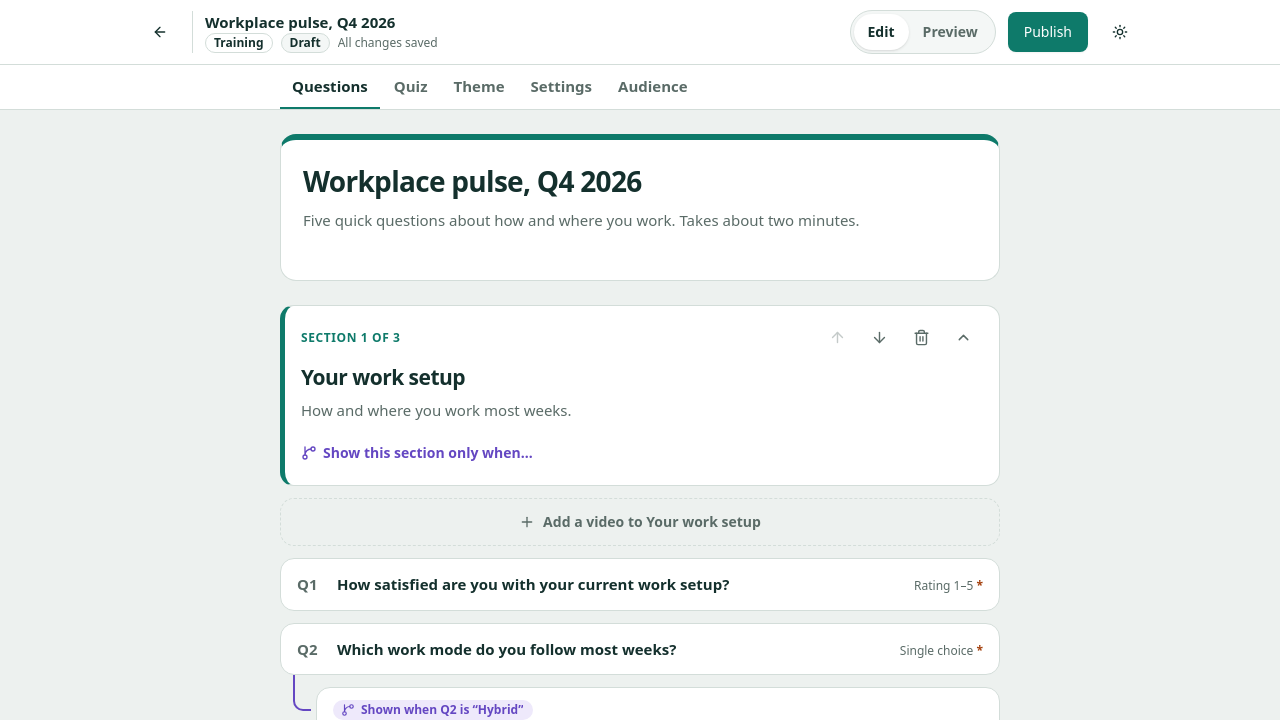
it: video sections in the builder › checks an internal link and says how long the video is
The width and height of the screenshot is (1280, 720).
Expected: the field named "Survey title" is shown, [303,160,977,203]
Click the button "Add a video to Your work setup". click: (640, 522)
box: [280,498,1000,546]
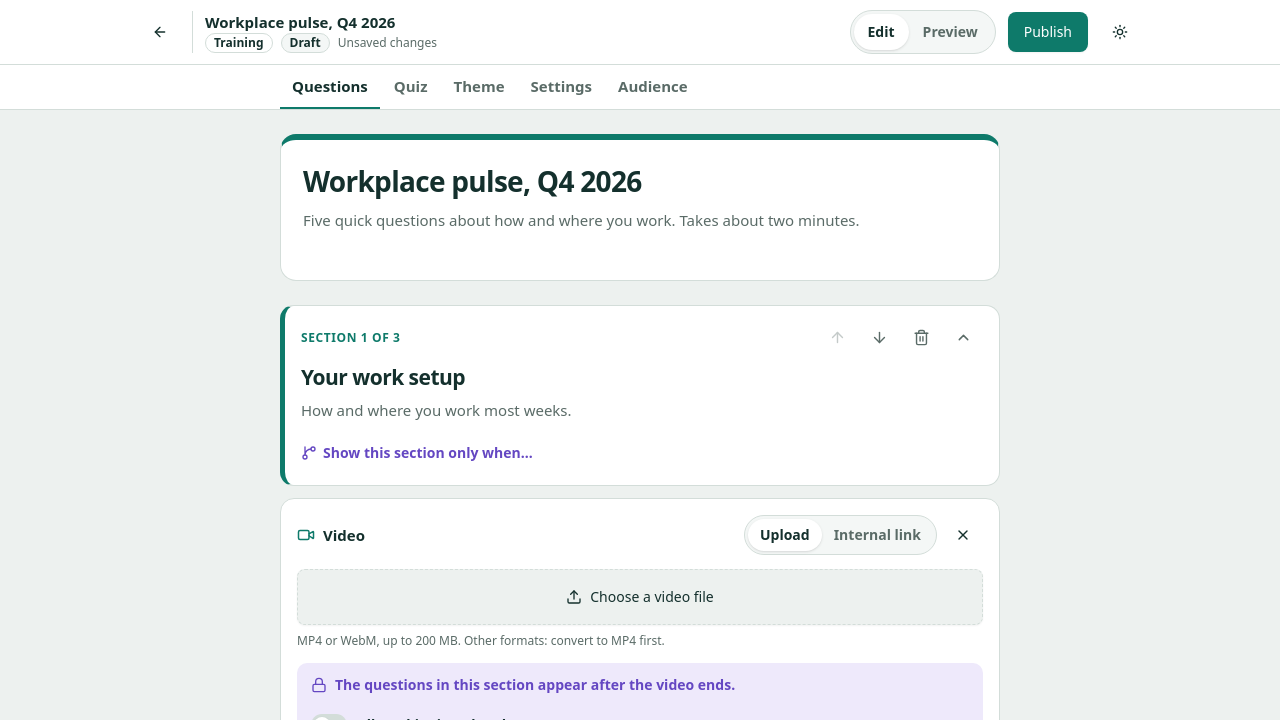
Click the button "Internal link". click: (877, 535)
box: [822,519,933,551]
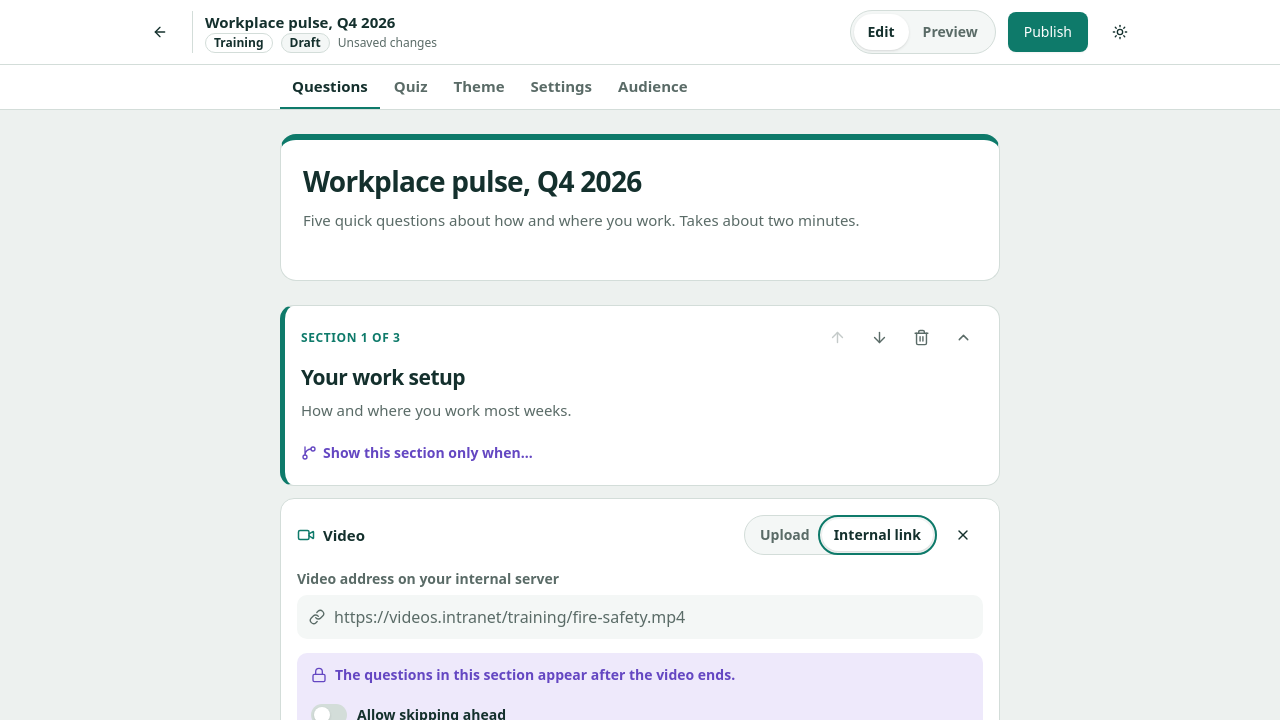
Type "videos/fire.mp4" into the field labelled "Video address on your internal server". click: (640, 617)
box: [297,595,983,639]
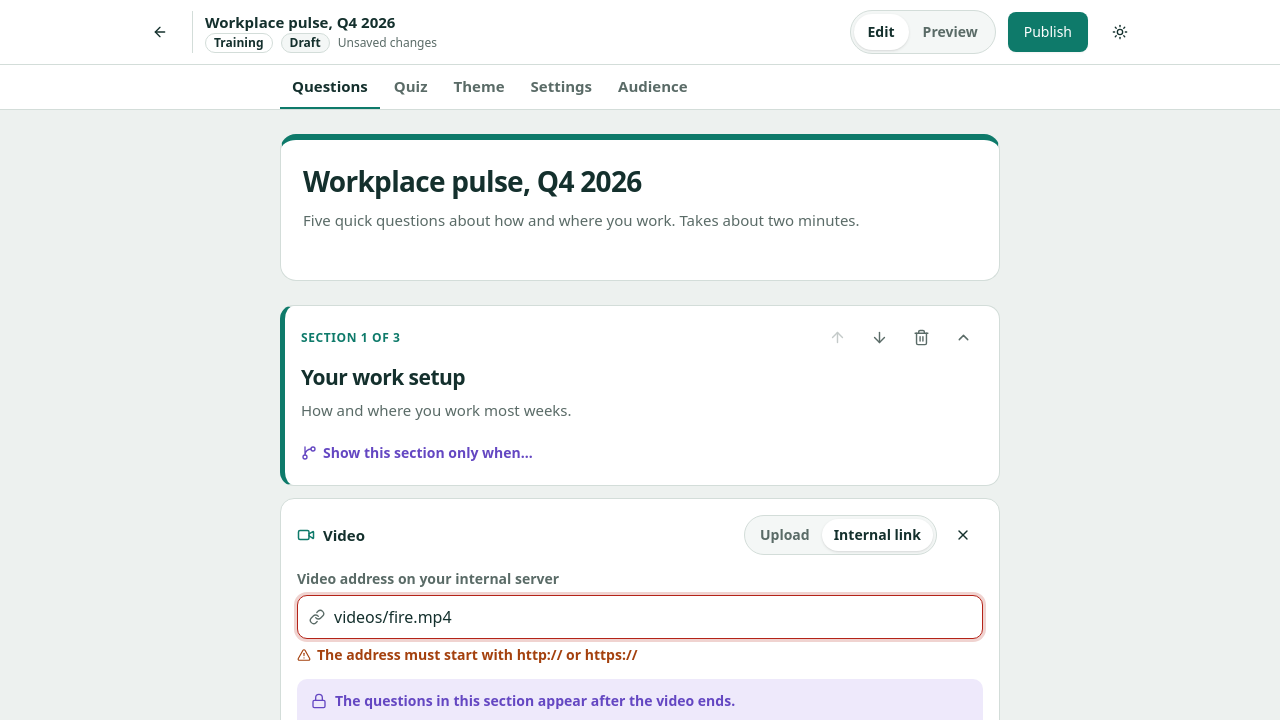
Expected: the text "The address must start with http:// or https://" is shown, [297,645,638,664]
Replace the text in the field labelled "Video address on your internal server" with "https://videos.intranet/fire.mp4". click: (640, 617)
box: [297,595,983,639]
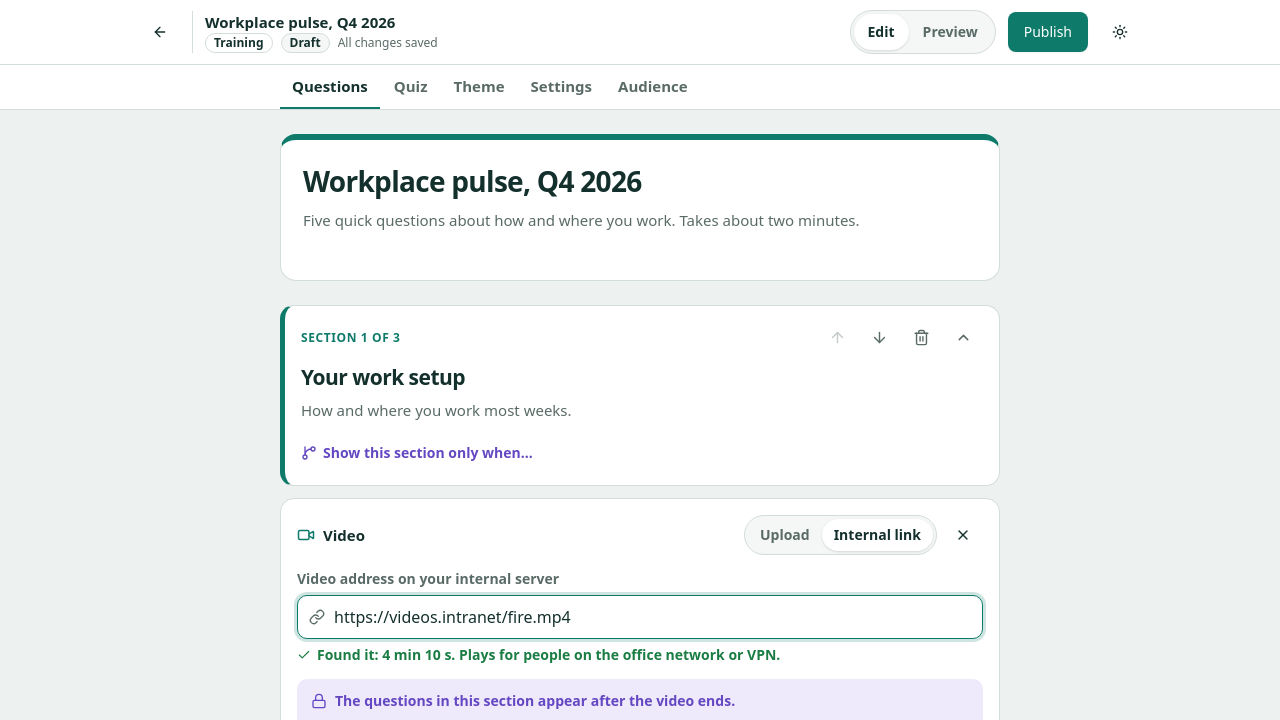
Expected: the text "Found it: 4 min 10 s. Plays for people on the office network or VPN." is shown, [297,645,780,664]
